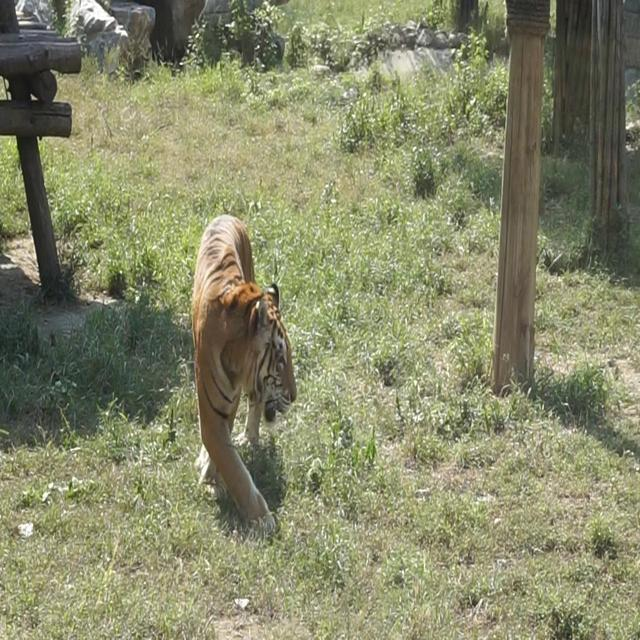tiger: (190, 212, 297, 537)
